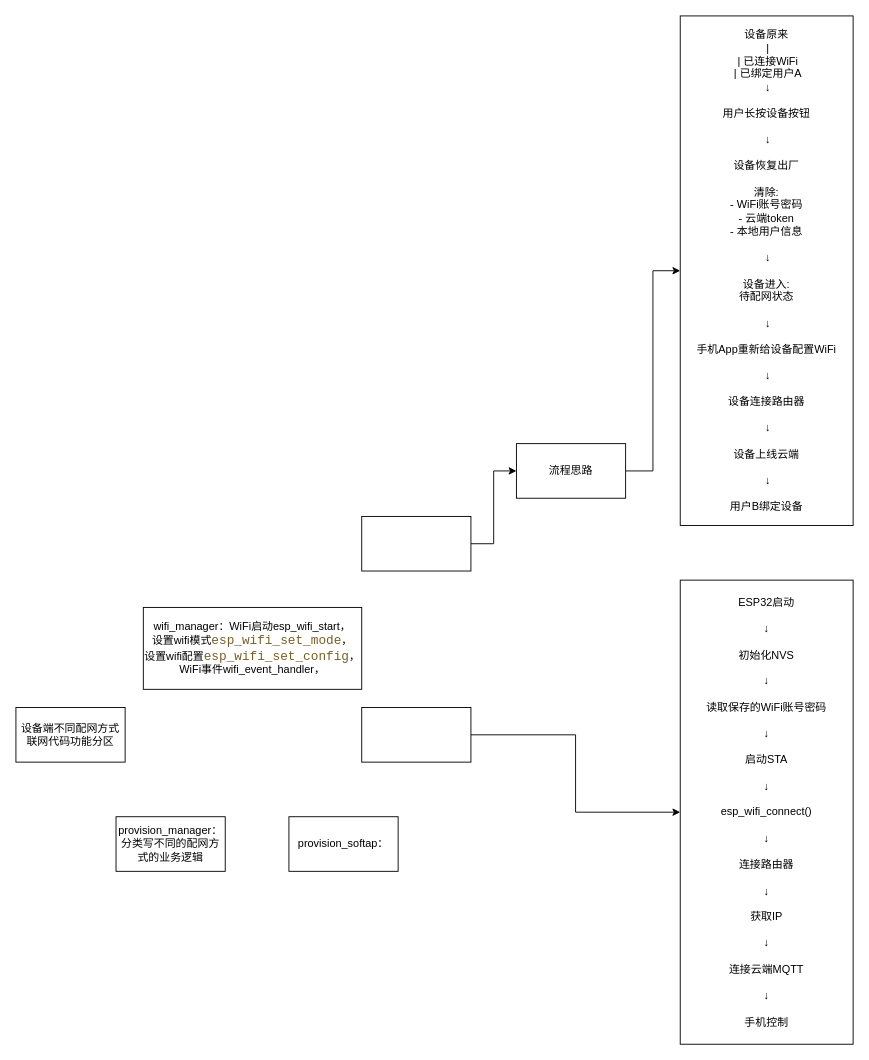
This 869x1060 diagram has some shape labels left out. The shapes that lost their labels are listed below. From the top down, each one's centre as x and y in pixels, then its label:
the point at 416,543: 设备端恢复出厂设置（强制配网）
the point at 416,734: 设备获取到WiFi后，联网
